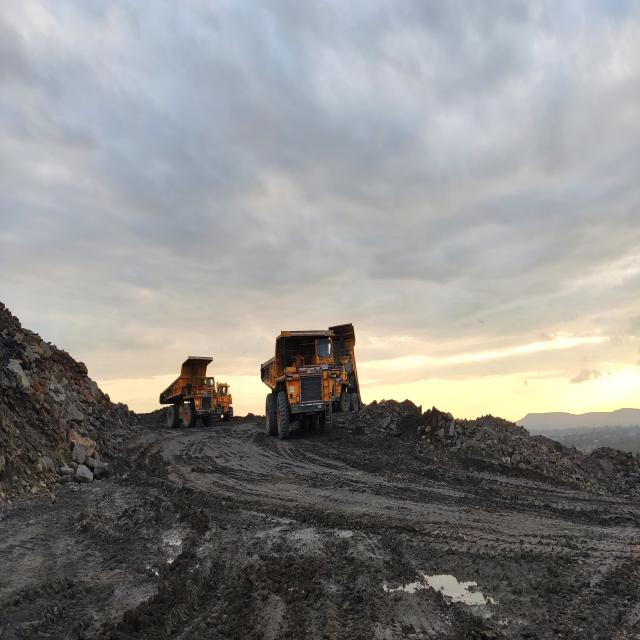buldozerpayloadergrader: (215, 382, 234, 420)
dump_truck: (261, 329, 336, 440), (160, 358, 216, 427), (329, 324, 361, 413)
